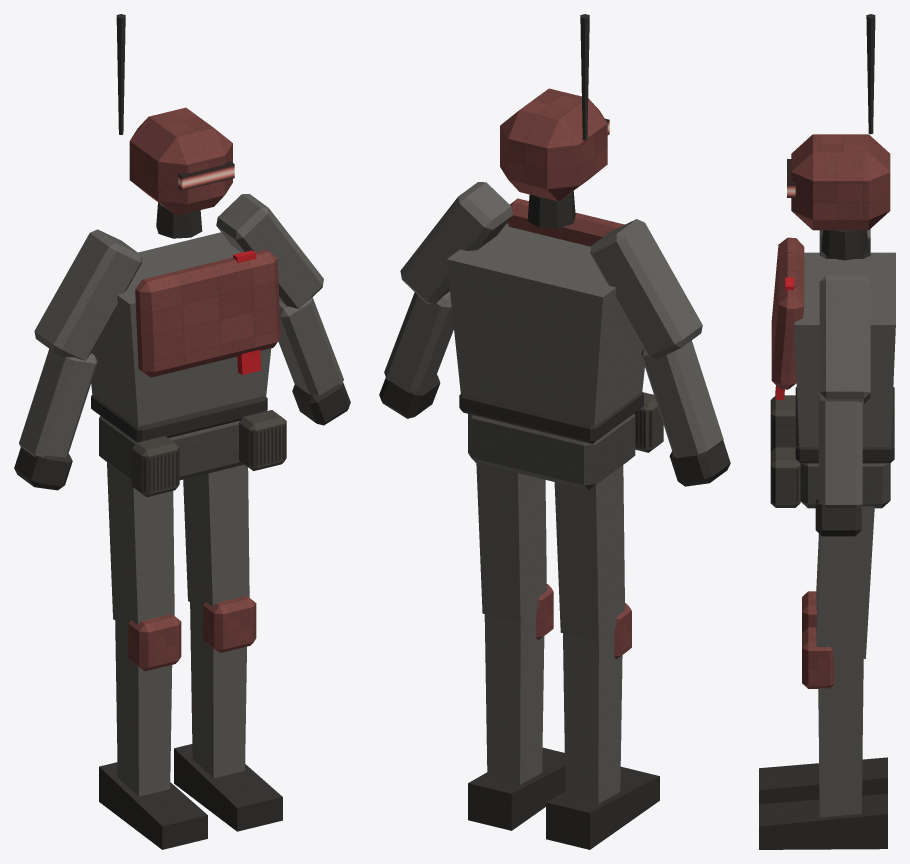
File: char_striker.obj
3 views of the same model, side by side, from view 1: azimuth 30°, elevation 25°; view 2: azimuth 150°, elevation 25°; view 3: azimuth 270°, elevation 25° (orthographic). The views are drawn at different scales.
Visible parts, largest first — view 1: char_striker; view 2: char_striker; view 3: char_striker.
Part boxes in pixels (box(x1,y1,x2,y2)): char_striker: box(14, 14, 350, 849); char_striker: box(379, 14, 730, 849); char_striker: box(759, 14, 895, 849).
Size of the model in its own units: 0.852 by 2.01 by 0.3181.
1 material, 1 textured.
